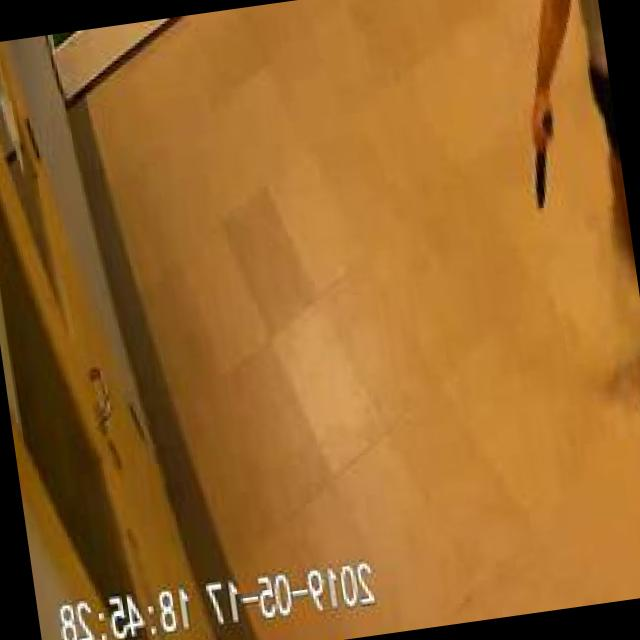Guns: (506, 84, 581, 228)
